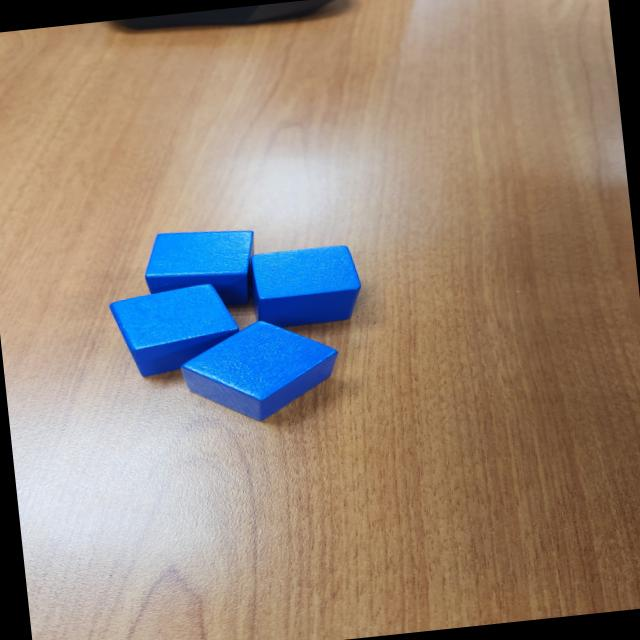blue: (176, 312, 347, 428), (107, 278, 244, 382), (140, 222, 264, 316), (244, 242, 366, 332)
